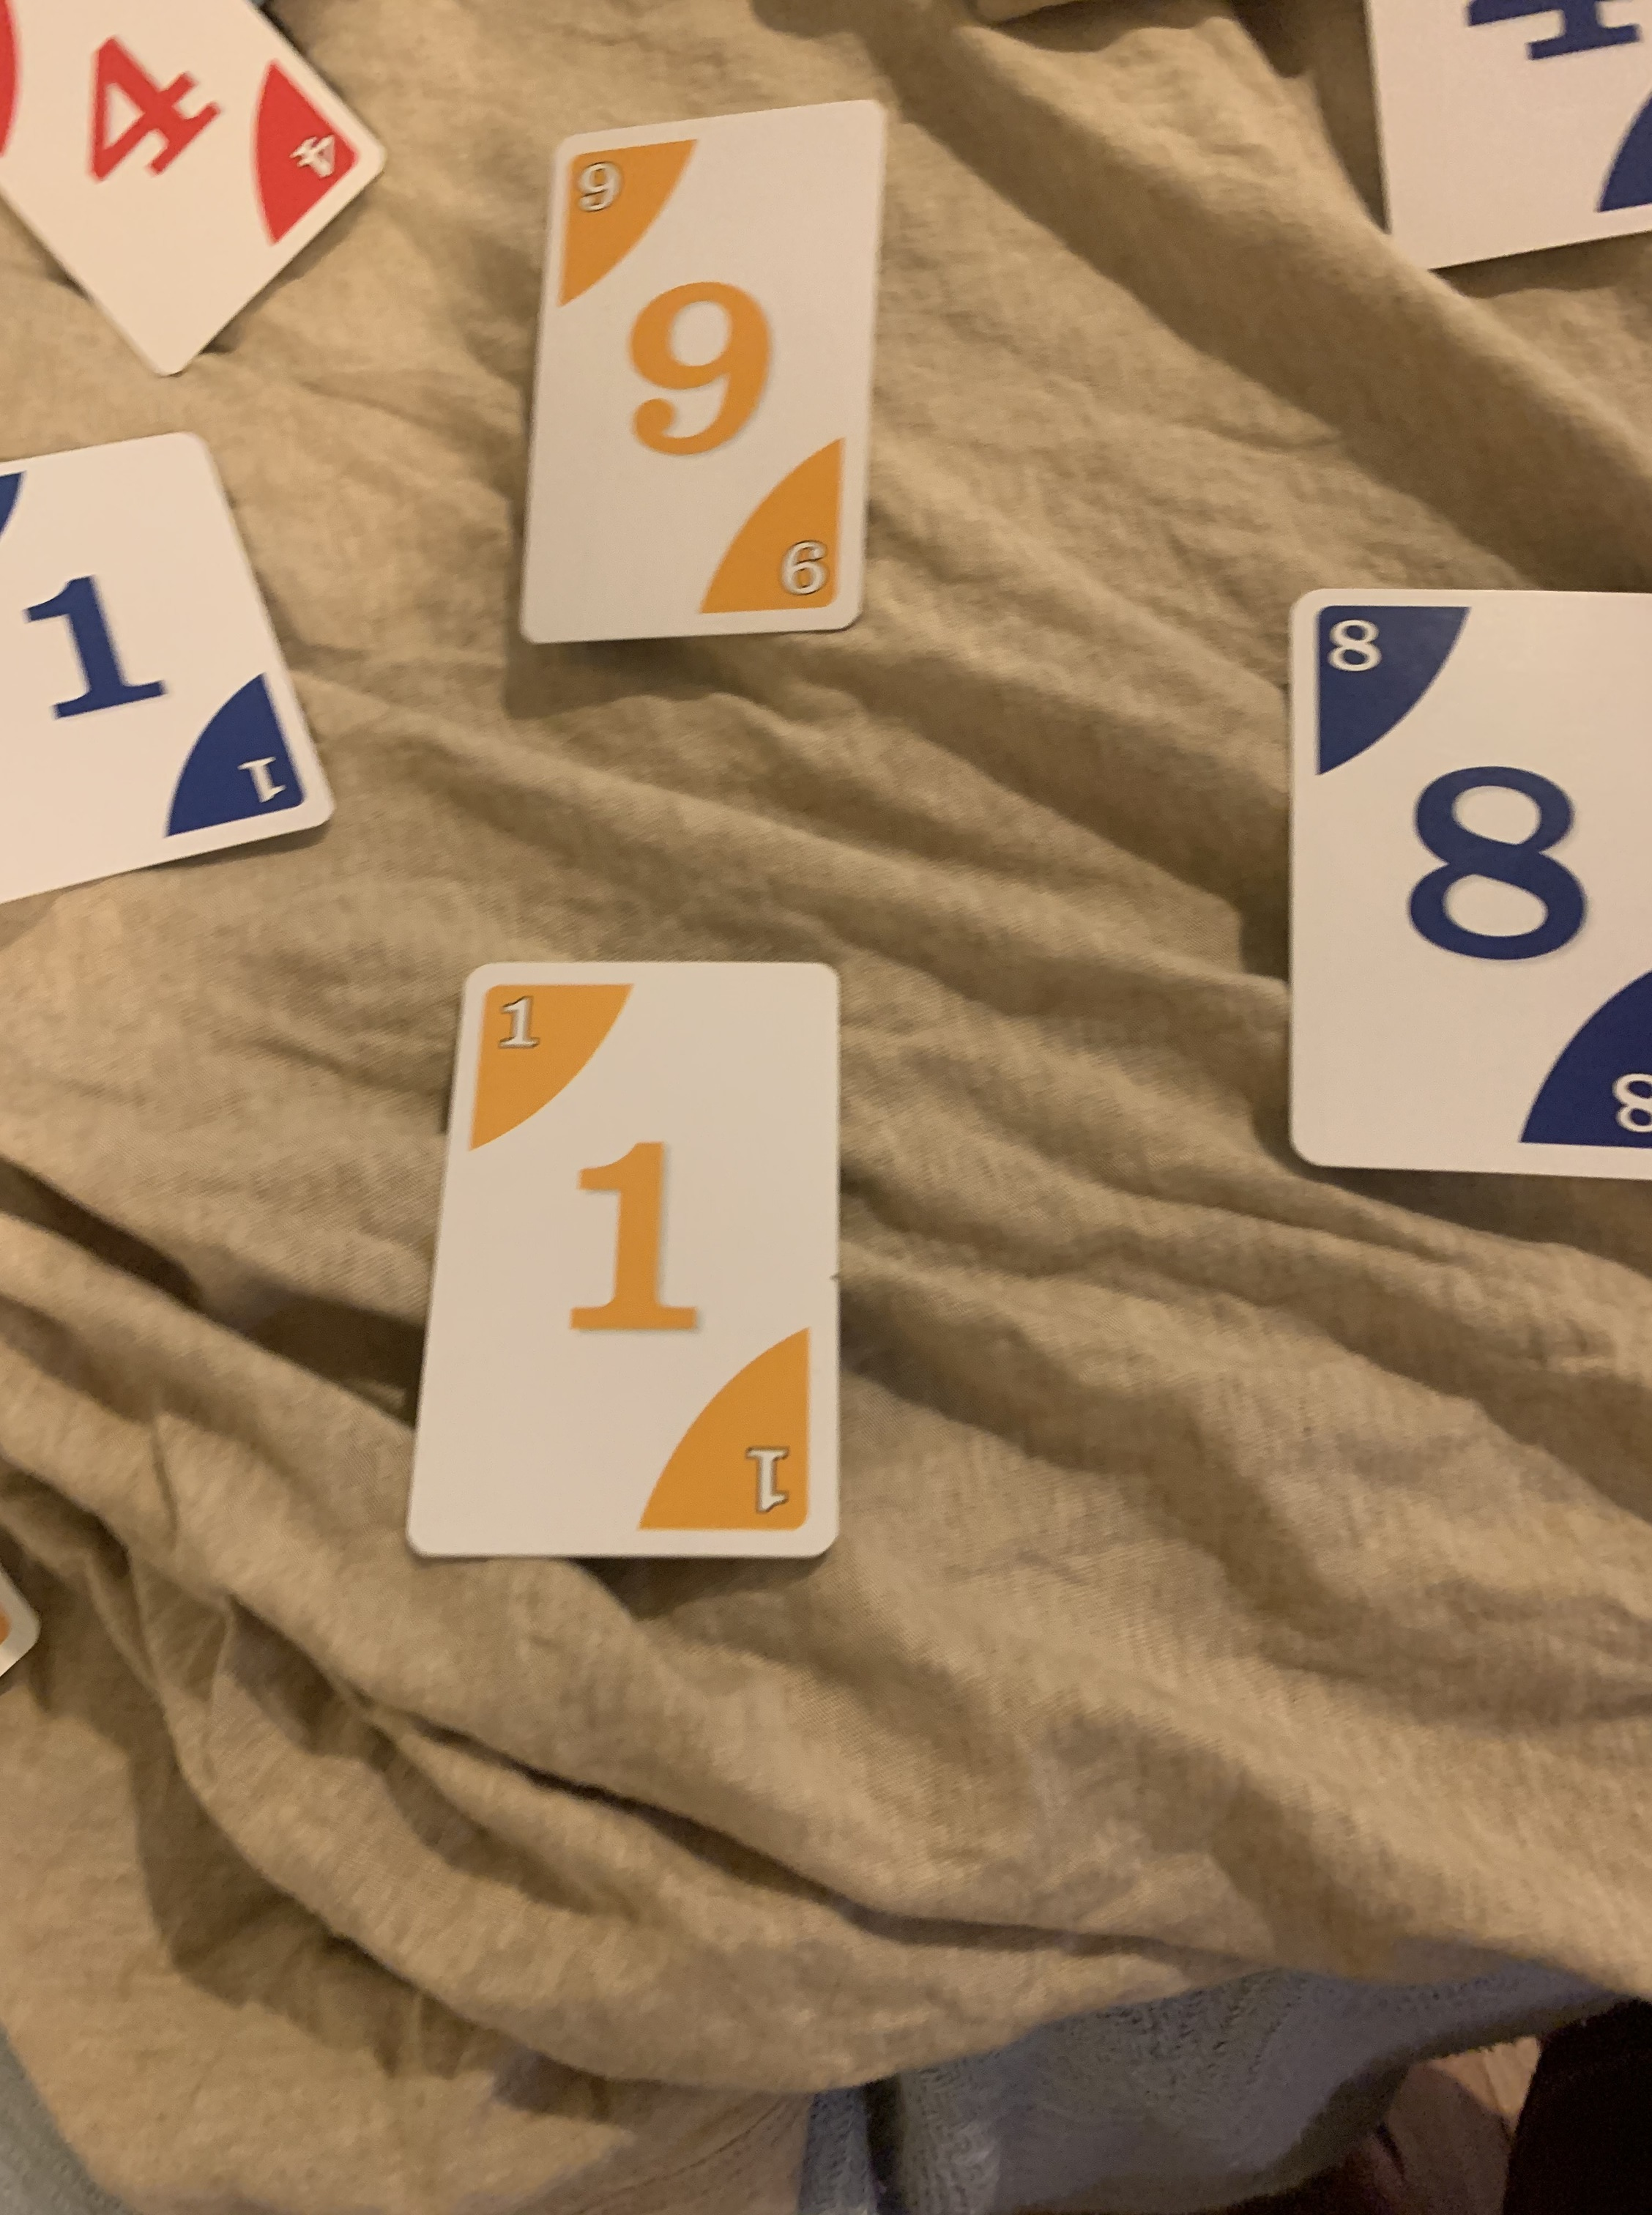eight: (1253, 568, 1652, 1191)
nine: (507, 90, 913, 656)
one: (399, 962, 854, 1581), (0, 413, 349, 920)
